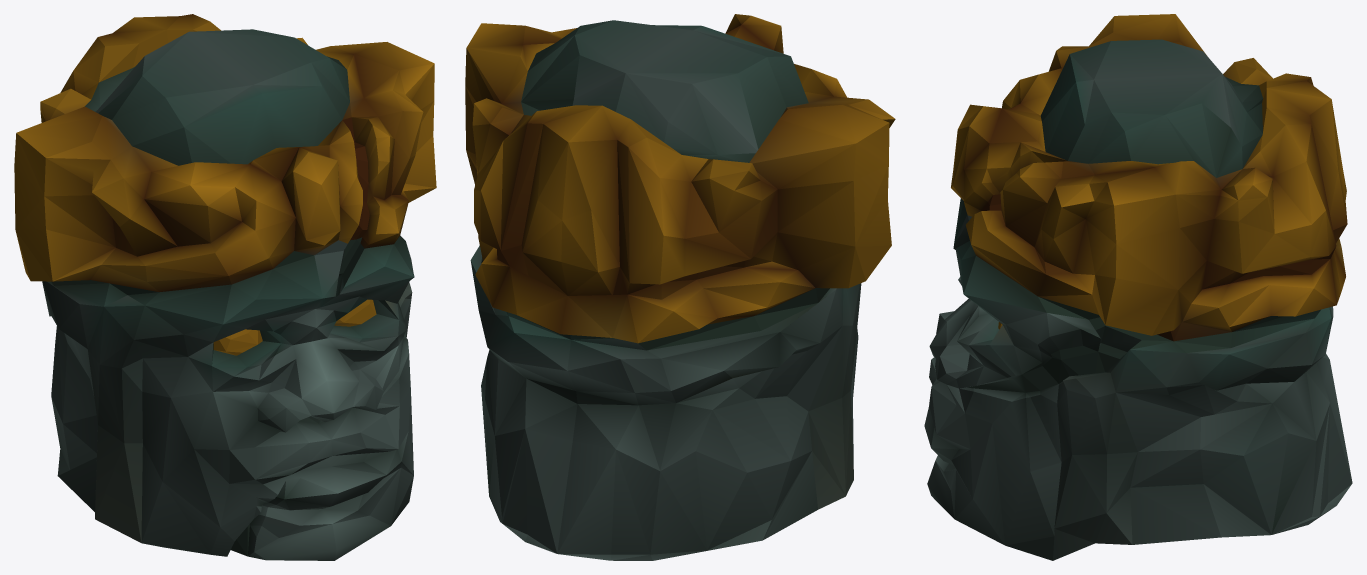
File: ENV_Totem_01.fbx
3 renders of one model, left to right at view 1: azimuth 30°, elevation 25°; view 2: azimuth 150°, elevation 25°; view 3: azimuth 270°, elevation 25°, orthographic. The views are drawn at different scales.
Visible parts, largest first — view 1: Totem_Head; view 2: Totem_Head; view 3: Totem_Head.
Part boxes in pixels (x1=…): Totem_Head: x1=14, y1=14, x2=436, y2=560; Totem_Head: x1=465, y1=14, x2=895, y2=560; Totem_Head: x1=924, y1=14, x2=1352, y2=560.
Size of the model in its own units: 361 by 379 by 344.
